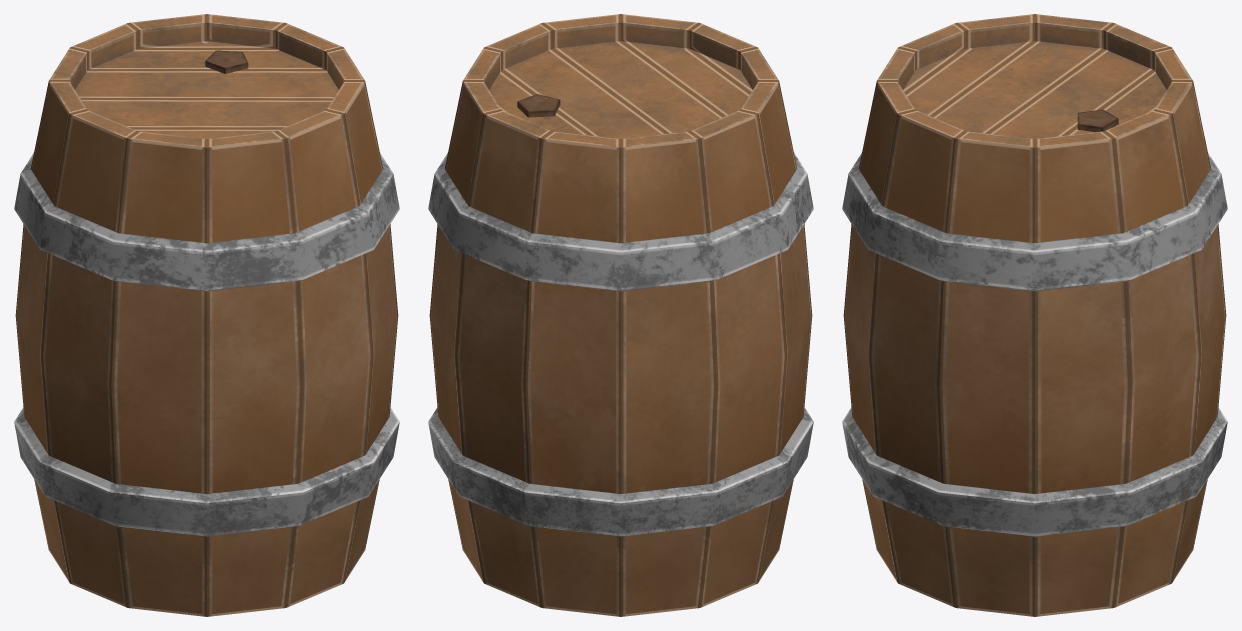
Rendered from Barrel.fbx.
The picture shows the model from 3 angles, left to right: view 1: azimuth 30°, elevation 25°; view 2: azimuth 150°, elevation 25°; view 3: azimuth 270°, elevation 25°; orthographic projection.
Visible parts, largest first — view 1: Barrel; view 2: Barrel; view 3: Barrel.
Part boxes in pixels (x1,y1,x2,y2): Barrel: [14, 14, 399, 616]; Barrel: [428, 14, 813, 616]; Barrel: [842, 14, 1227, 616].
Bounding box in the file's own units: 67.03 × 90 × 67.03.
